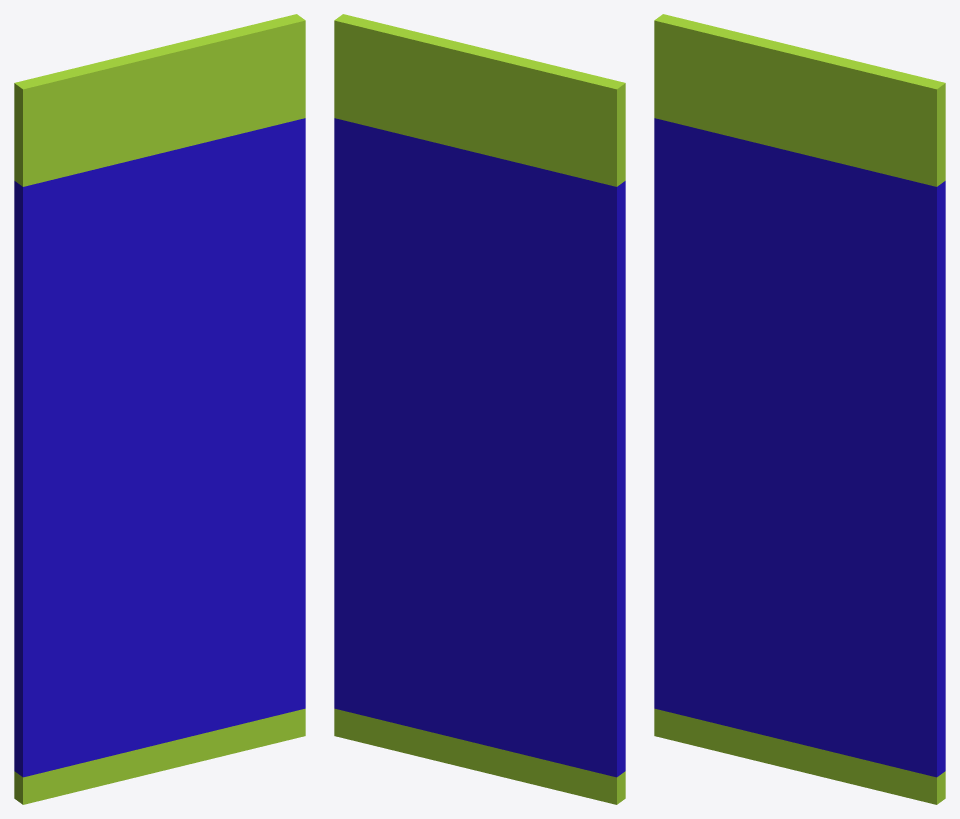
The model's file is StatusPanelPrintfbx.fbx.
3 views of the same model, side by side, from view 1: azimuth 30°, elevation 25°; view 2: azimuth 150°, elevation 25°; view 3: azimuth 330°, elevation 25° (orthographic).
Parts seen in each view (by area): view 1: Cube; view 2: Cube; view 3: Cube.
Part boxes in pixels (box(x1,y1,x2,y2)): Cube: box(14, 14, 305, 804); Cube: box(334, 14, 625, 804); Cube: box(654, 14, 945, 804).
Bounding box in the file's own units: 155 × 376 × 8.45.
